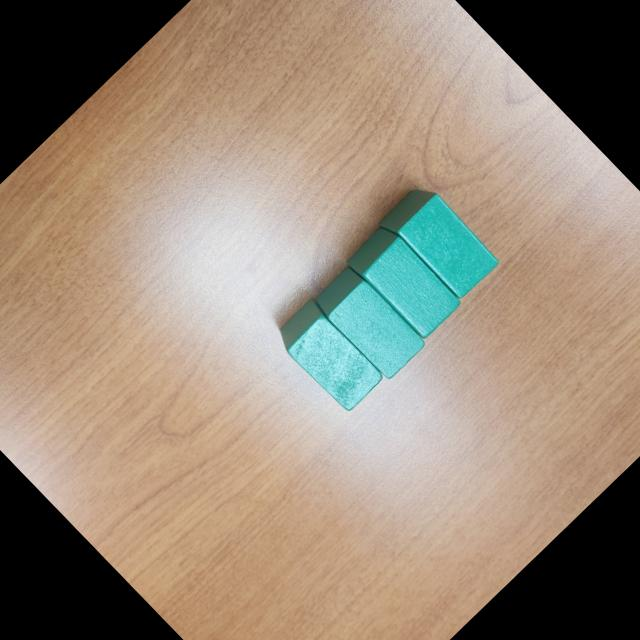green: (376, 178, 504, 306), (342, 219, 466, 343), (271, 296, 390, 418), (312, 263, 428, 382)
